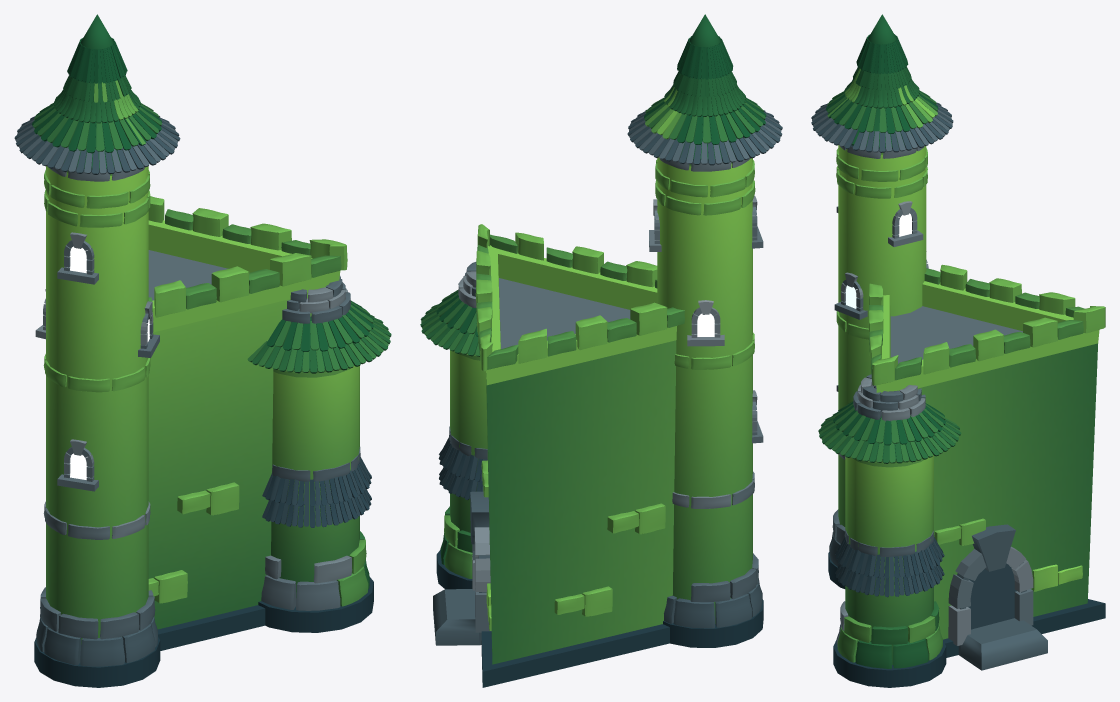
The model's file is MedievalCastle_3.glb.
3 views of the same model, side by side, from view 1: azimuth 30°, elevation 25°; view 2: azimuth 150°, elevation 25°; view 3: azimuth 270°, elevation 25° (orthographic). The views are drawn at different scales.
Parts seen in each view (by area): view 1: HighTower1, CastleBodyMain, ShortTower1, WindowHigh2, WindowLow, WindowMed1; view 2: CastleBodyMain, HighTower1, ShortTower1, GateMain, WindowMed2; view 3: CastleBodyMain, ShortTower1, HighTower1, GateMain, WindowHigh1, WindowMed1.
Boxes of the visible parts, bbox=[...] form: HighTower1: bbox=[14, 14, 180, 666]; CastleBodyMain: bbox=[34, 196, 373, 687]; ShortTower1: bbox=[247, 276, 391, 610]; WindowHigh2: bbox=[57, 232, 98, 284]; WindowLow: bbox=[57, 439, 98, 491]; WindowMed1: bbox=[138, 301, 159, 357]; CastleBodyMain: bbox=[436, 224, 763, 687]; HighTower1: bbox=[627, 14, 782, 628]; ShortTower1: bbox=[420, 262, 487, 578]; GateMain: bbox=[433, 491, 491, 645]; WindowMed2: bbox=[687, 300, 724, 346]; CastleBodyMain: bbox=[828, 264, 1105, 687]; ShortTower1: bbox=[818, 374, 961, 668]; HighTower1: bbox=[811, 14, 953, 566]; GateMain: bbox=[948, 524, 1047, 670]; WindowHigh1: bbox=[888, 201, 923, 246]; WindowMed1: bbox=[834, 272, 867, 319].
Bounding box in the file's own units: 3.46 × 5.96 × 2.85.
Materials: 2 (1 with a texture image).
